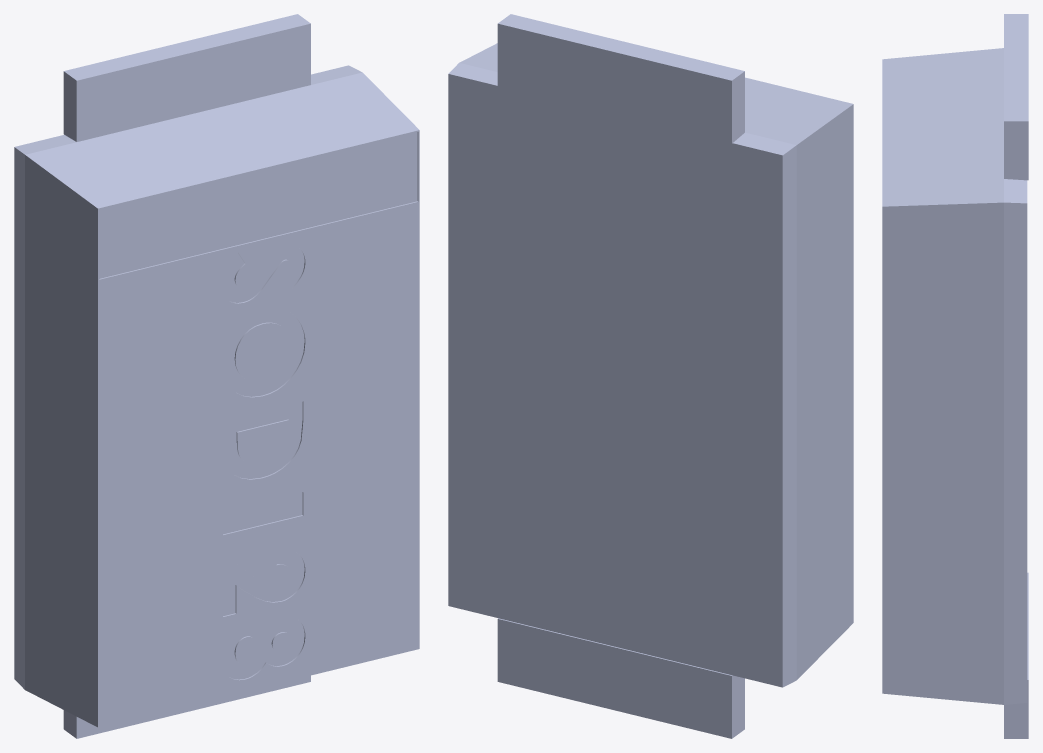
3 renders of one model, left to right at view 1: azimuth 30°, elevation 25°; view 2: azimuth 150°, elevation 25°; view 3: azimuth 270°, elevation 25°, orthographic. The views are drawn at different scales.
Visible parts, largest first — view 1: Diode SOD128; view 2: Diode SOD128; view 3: Diode SOD128.
Boxes of the visible parts, <box> form: Diode SOD128: <box>14,14,419,738</box>; Diode SOD128: <box>448,14,853,738</box>; Diode SOD128: <box>882,14,1028,738</box>.
Bounding box in the file's own units: 0.00252 × 0.0047 × 0.00101.
